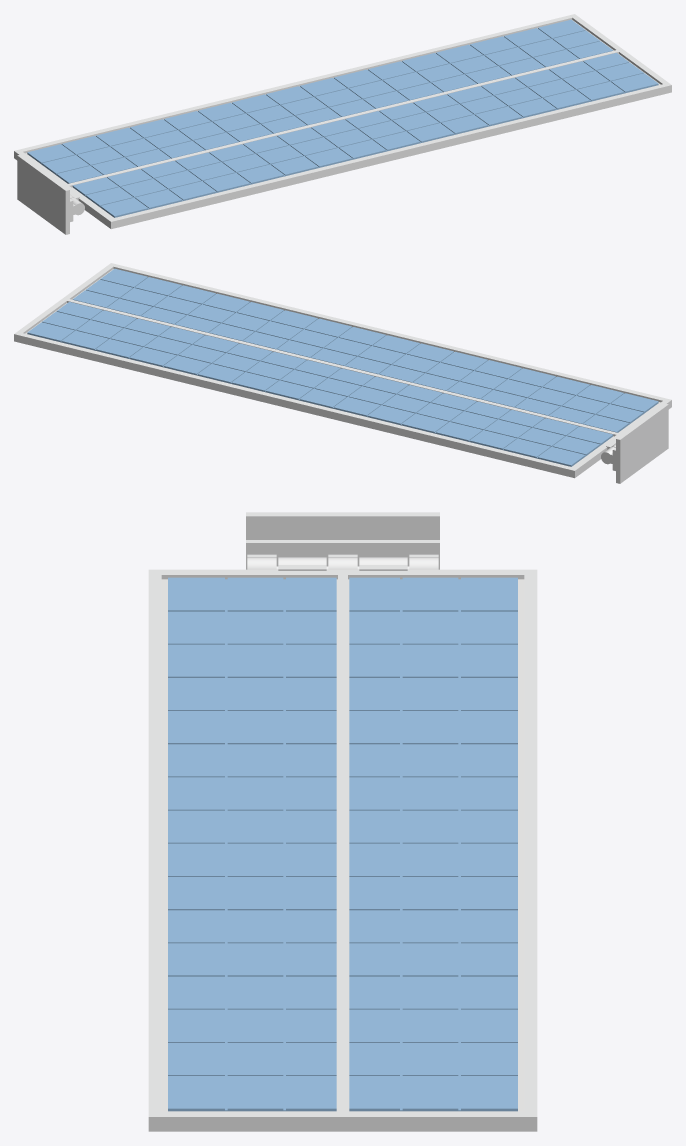
Rendered from solar-panel.glb.
3 renders of one model, top to bottom at view 1: azimuth 30°, elevation 25°; view 2: azimuth 150°, elevation 25°; view 3: azimuth 270°, elevation 25°, orthographic. The views are drawn at different scales.
Parts seen in each view (by area): view 1: wing-cells, wing-structure, solar-panel-body; view 2: wing-cells, wing-structure, solar-panel-body; view 3: wing-cells, wing-structure, solar-panel-body, wing-back.
Boxes of the visible parts, x1=… form: wing-cells: x1=27, y1=19, x2=658, y2=217; wing-structure: x1=14, y1=14, x2=671, y2=229; solar-panel-body: x1=17, y1=154, x2=84, y2=234; wing-cells: x1=27, y1=268, x2=658, y2=466; wing-structure: x1=14, y1=263, x2=671, y2=478; solar-panel-body: x1=601, y1=403, x2=668, y2=483; wing-cells: x1=168, y1=577, x2=517, y2=1111; wing-structure: x1=148, y1=557, x2=537, y2=1131; solar-panel-body: x1=246, y1=512, x2=439, y2=569; wing-back: x1=161, y1=579, x2=524, y2=1111.
Size of the model in its own units: 4.15 by 0.3 by 1.2.
